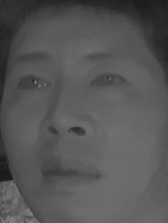eye: (88, 68, 128, 97), (12, 71, 54, 95)
mouth: (38, 153, 101, 194)
